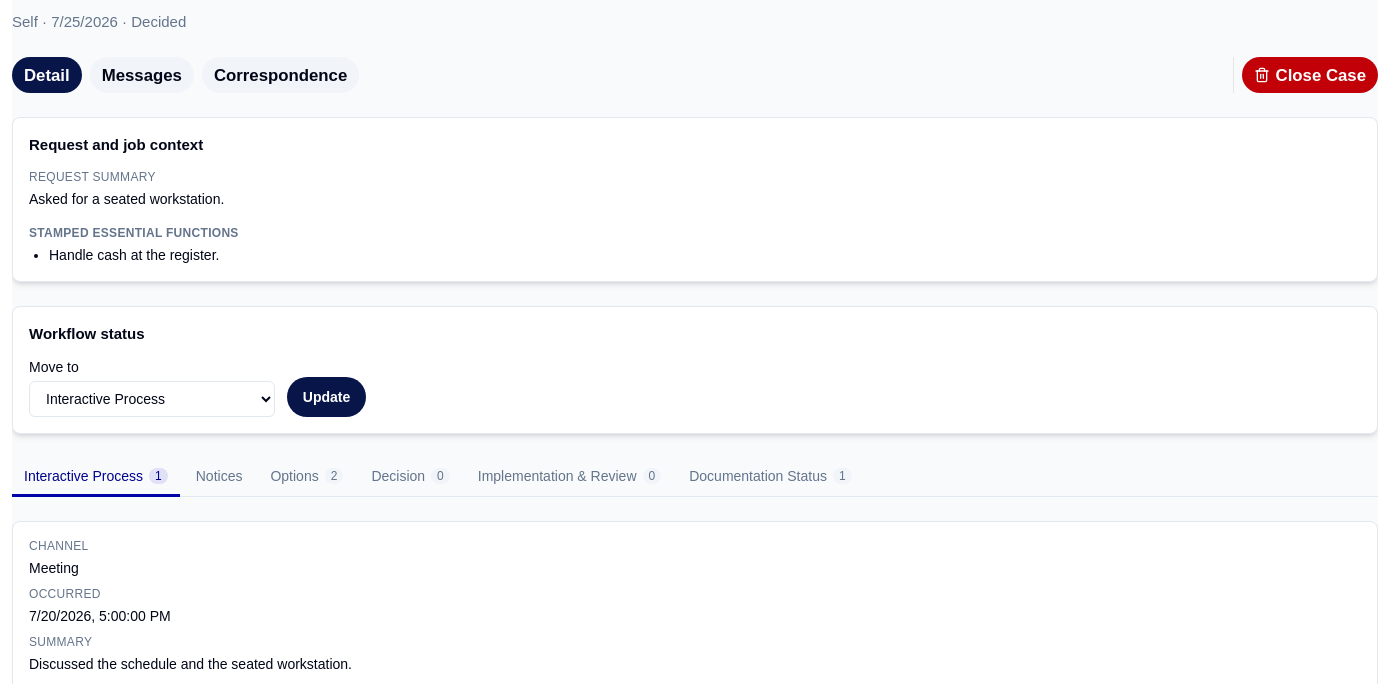
the restricted medical surface is Platform Admin / HR Partner only › shows the two revealed fields only after an explicit, audited reveal
Click the tab "Documentation status 1": (770, 478) [677,458,864,497]
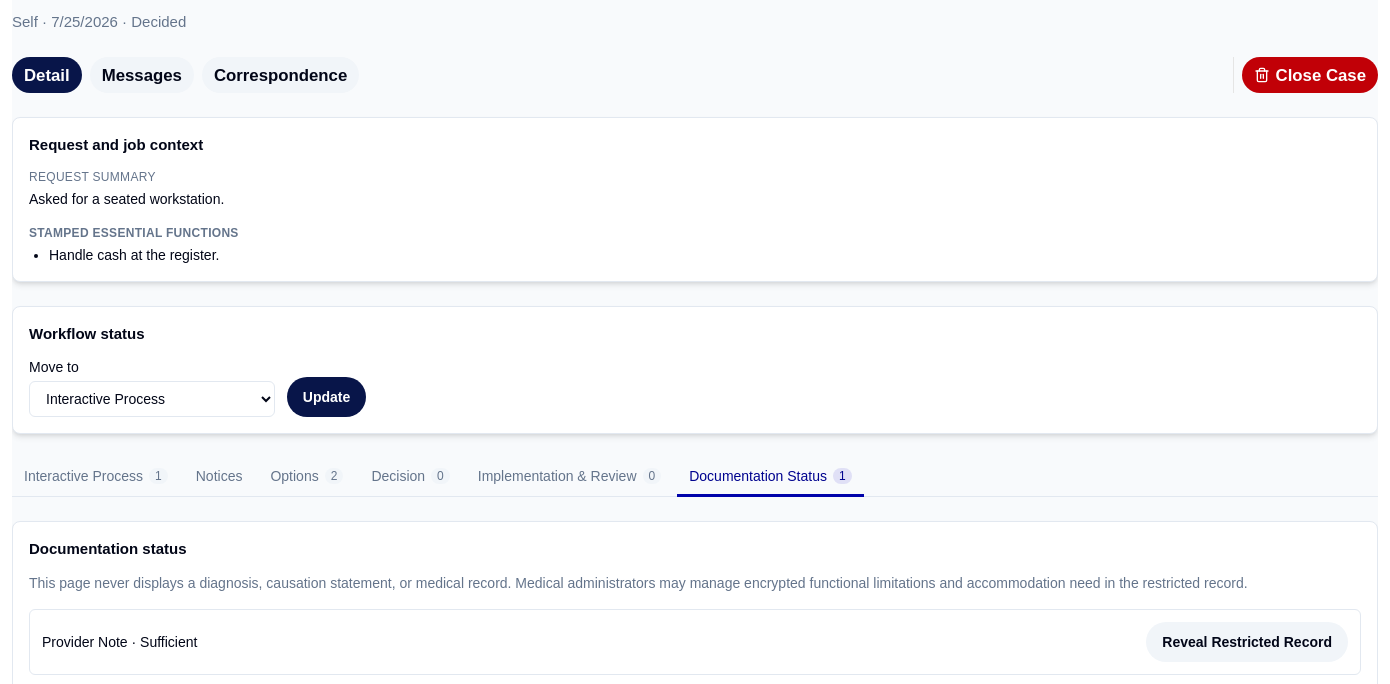
Expected: the text "Cannot stand longer than 20 minutes." is not shown
Click the button "Reveal Restricted Record": (1247, 642) [1146,622,1348,662]
(page scrolled)
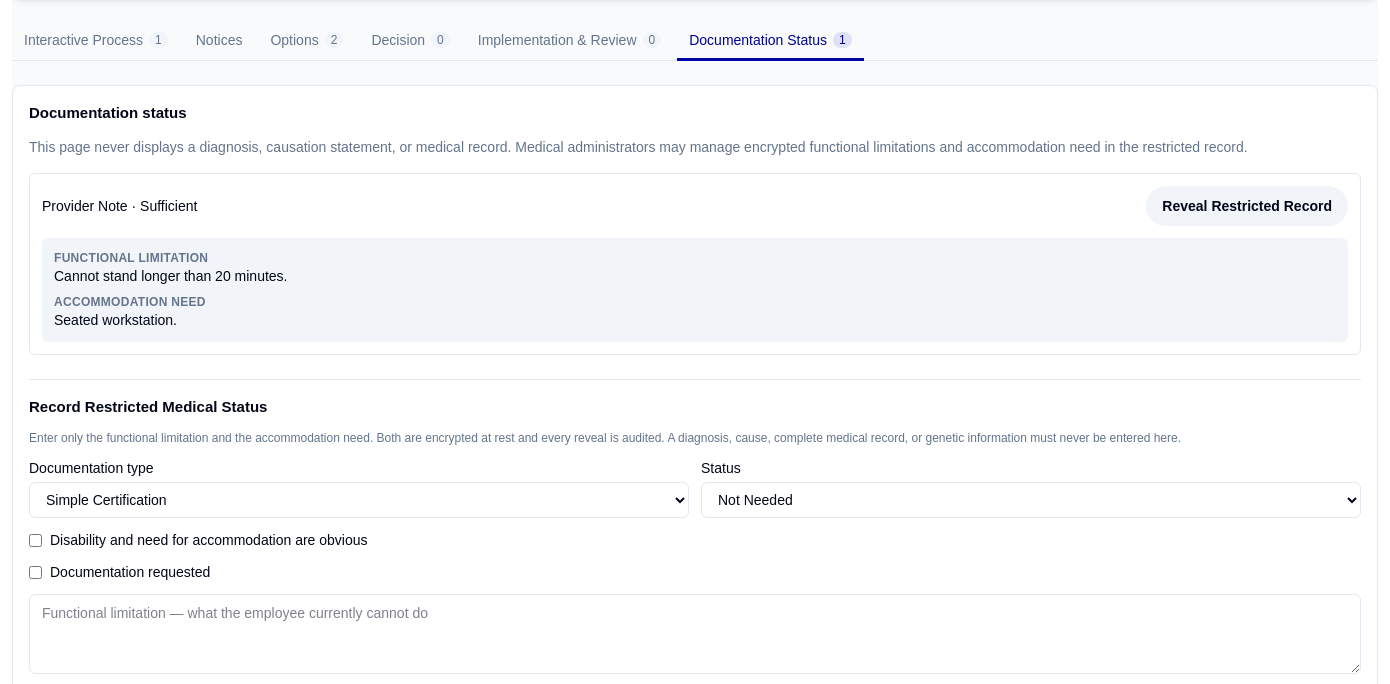
Result: the text "Cannot stand longer than 20 minutes." is shown at [54,268,288,284]
Result: the text "Seated workstation." is shown at [54,312,177,328]
